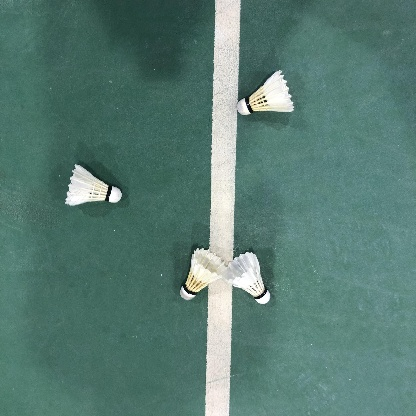ball_single: (237, 70, 294, 115), (180, 247, 227, 300), (65, 163, 122, 206), (224, 252, 270, 304)
